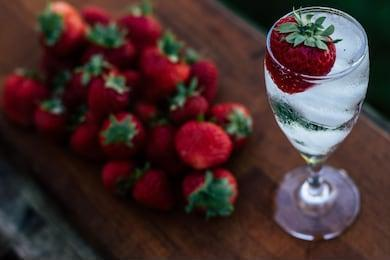Fresa: (257, 13, 343, 99), (172, 114, 237, 173), (93, 107, 152, 162), (82, 73, 133, 124)
